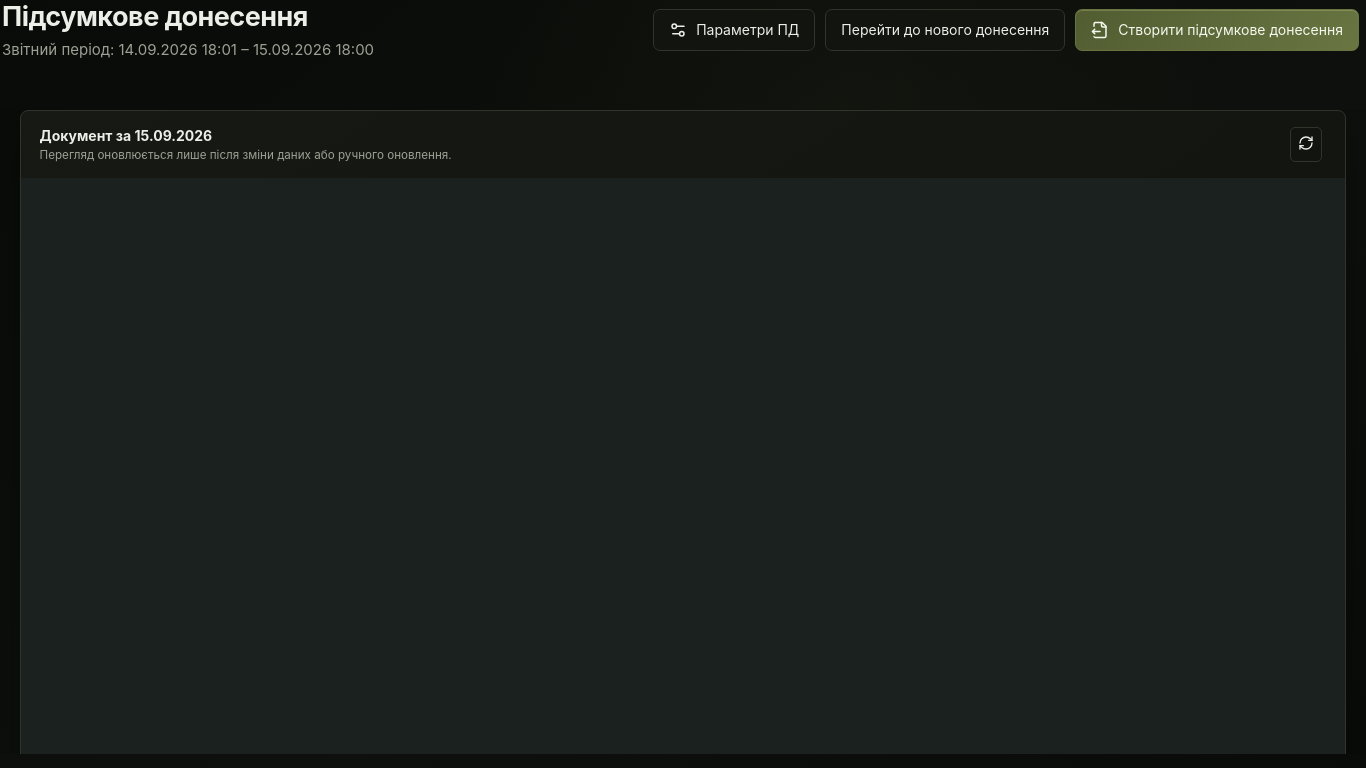
Test: Підсумкове донесення › не приймає ручне підтвердження, якщо 12:00 настало до натискання
The width and height of the screenshot is (1366, 768).
Step 1. Click the button "Перейти до нового донесення" → (945, 30), box [825, 8, 1065, 50]
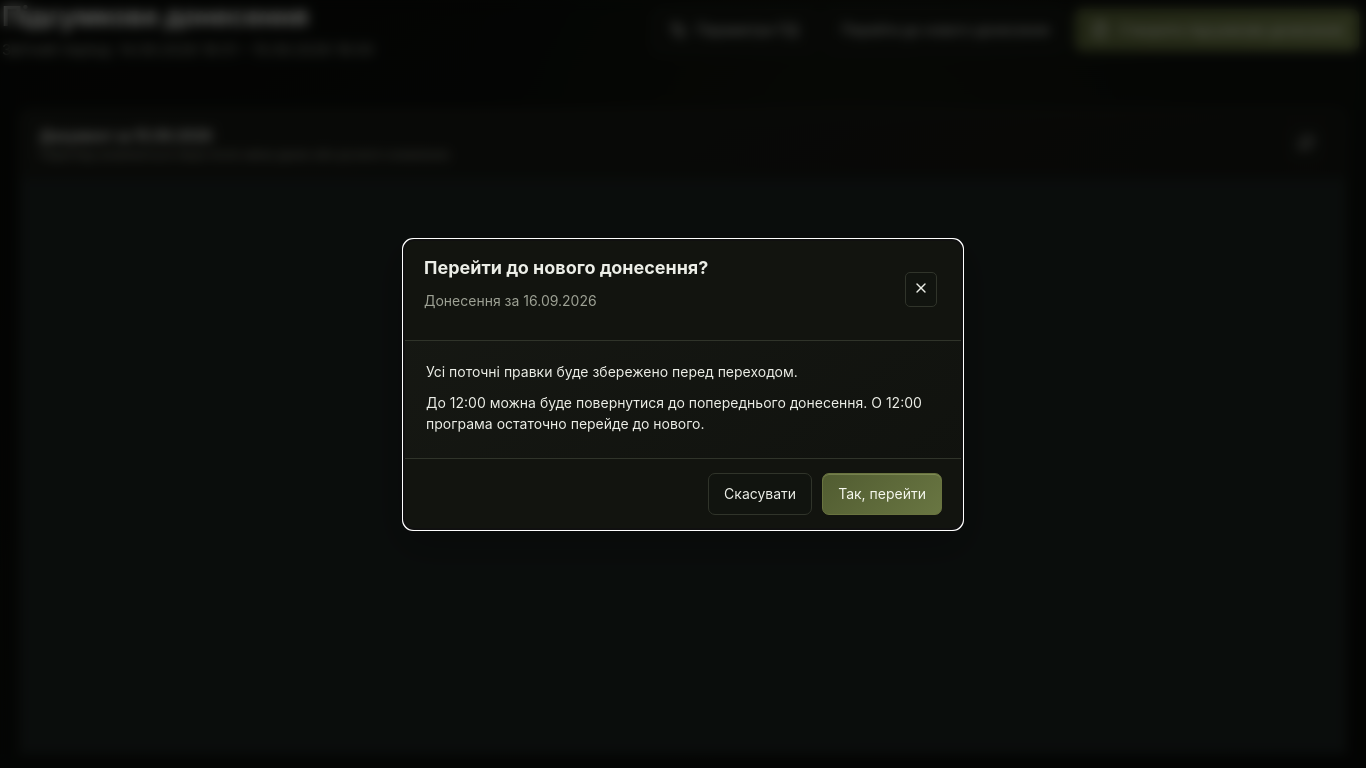
Step 2. Click the button "Так, перейти" → (882, 494), box [822, 472, 942, 514]
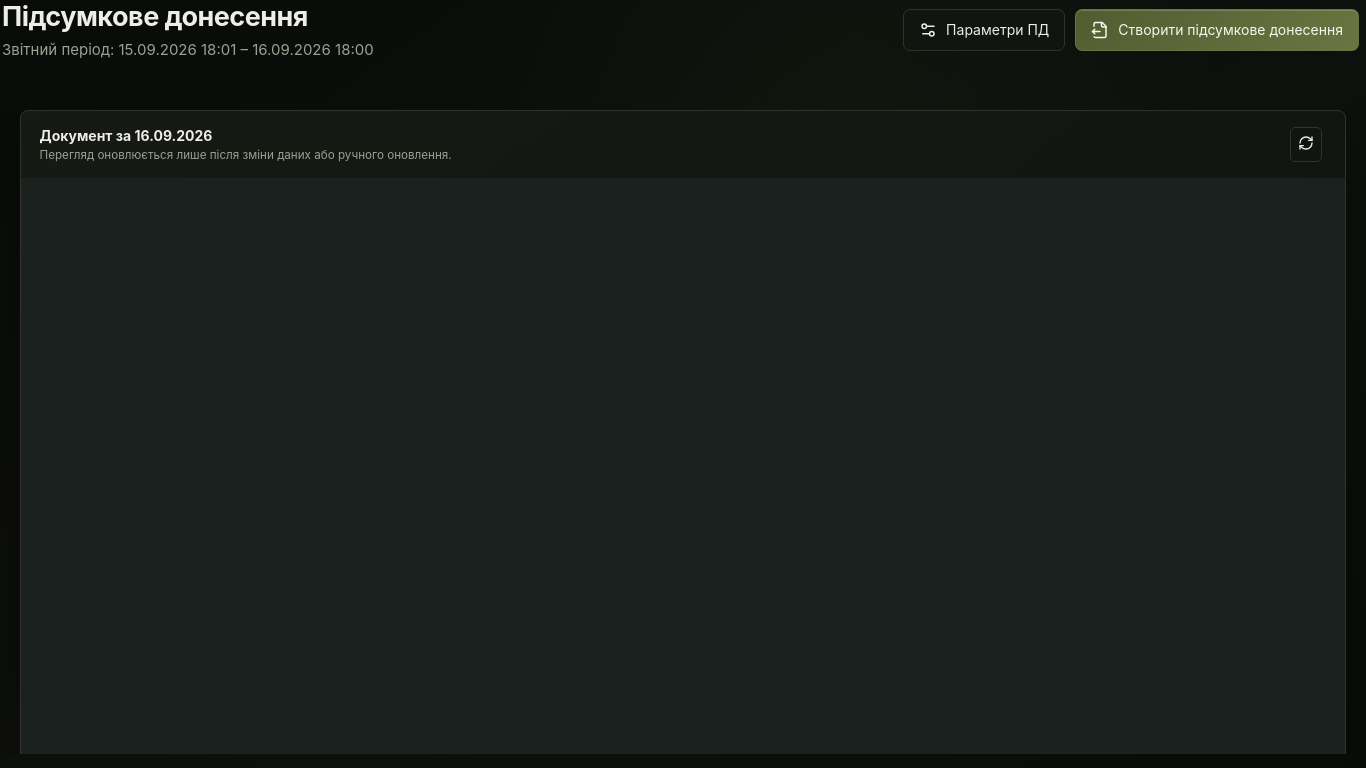
Expected: the text "Документ за 16.09.2026" is shown, [40, 127, 212, 144]
Expected: the text "повернутися до попереднього донесення" is gone
